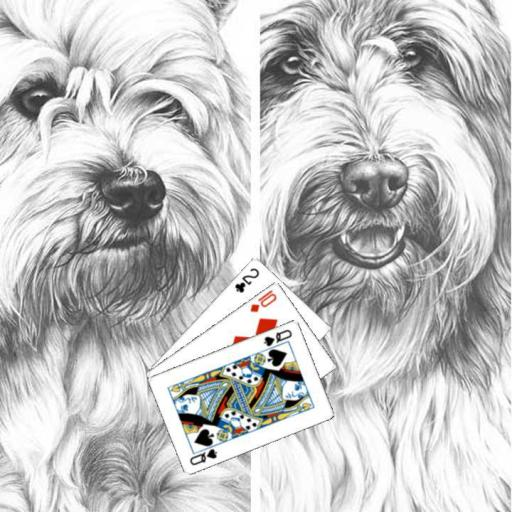10D: (247, 287, 278, 314)
2C: (231, 265, 261, 295)
QS: (260, 326, 294, 348), (186, 445, 219, 467)
